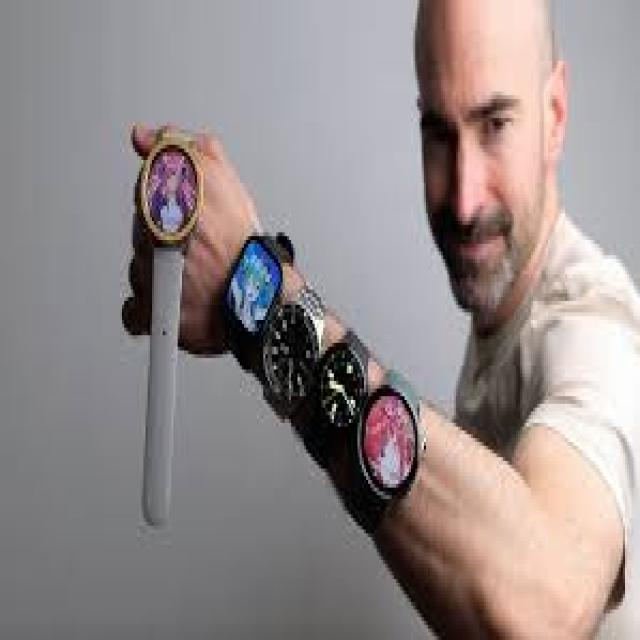objects: (225, 232, 424, 530), (135, 126, 201, 522)
